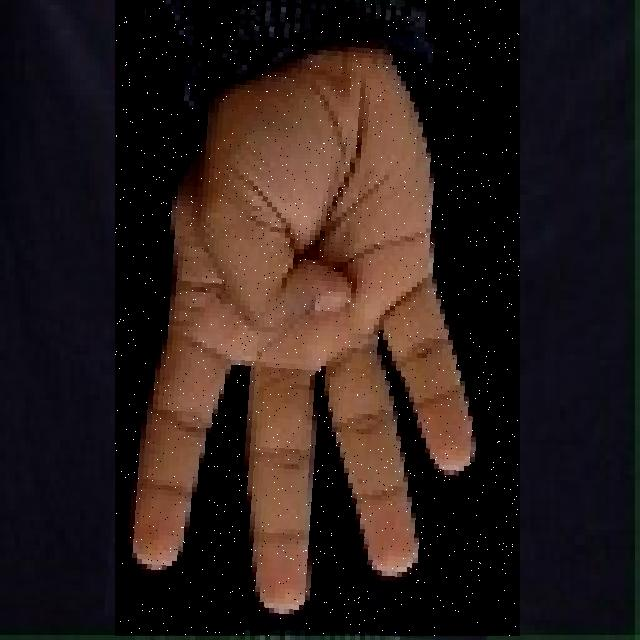Thanks: (115, 0, 520, 636)
